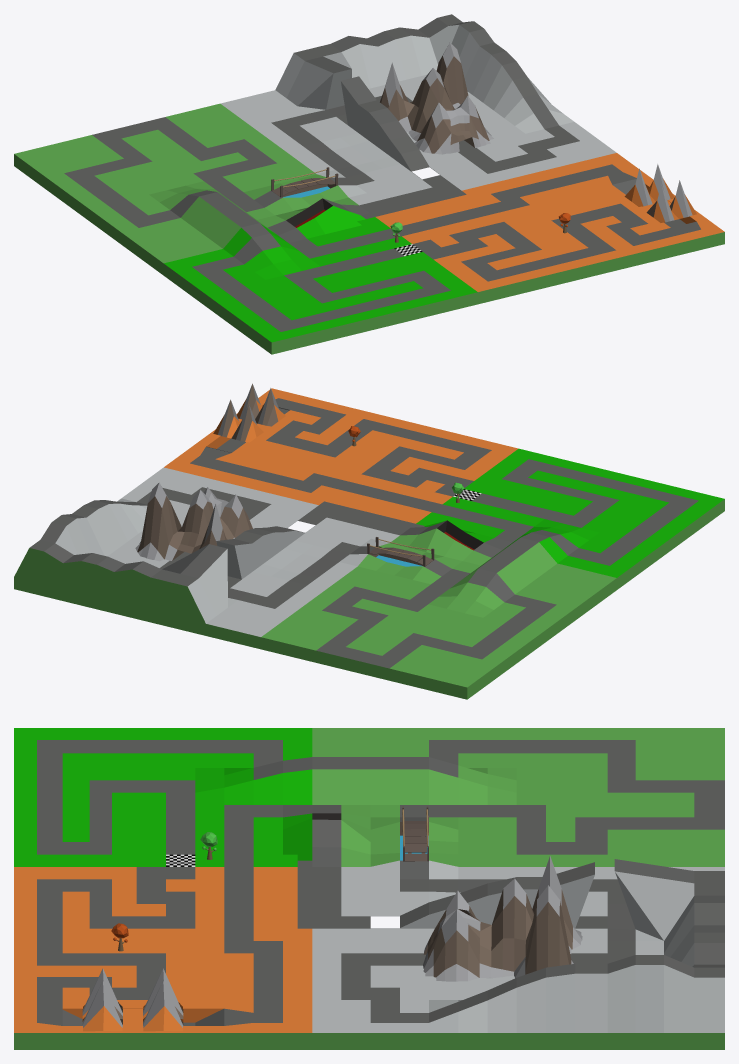
Rendered from sceneCourse.fbx.
3 renders of one model, top to bottom at view 1: azimuth 30°, elevation 25°; view 2: azimuth 150°, elevation 25°; view 3: azimuth 270°, elevation 25°, orthographic. The views are drawn at different scales.
Parts seen in each view (by area): view 1: Plane, Mountain, Plane.001; view 2: Plane, Mountain, Plane.001; view 3: Plane, Mountain, Plane.001.
Part boxes in pixels (x1,y1,x2,y2): Plane: (14, 14, 724, 354); Mountain: (380, 42, 493, 154); Plane.001: (624, 164, 696, 222); Plane: (14, 388, 724, 699); Mountain: (135, 482, 252, 561); Plane.001: (213, 383, 285, 442); Plane: (14, 728, 724, 1049); Mountain: (423, 856, 582, 981); Plane.001: (82, 968, 183, 1031).
Bounding box in the file's own units: 14586 × 2675 × 14363.
20 materials, 3 textured.
